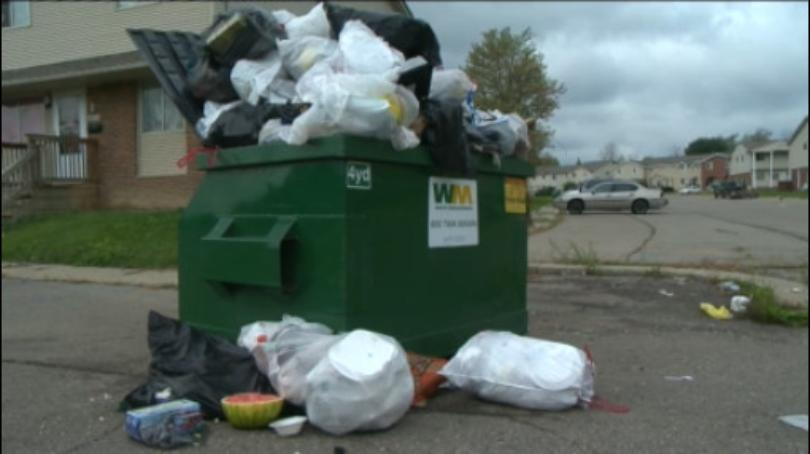Dumpster: (124, 21, 540, 354)
